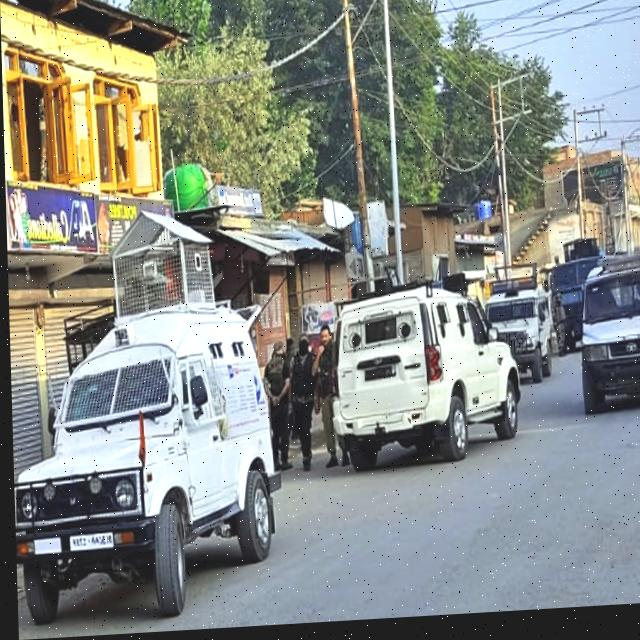plate: (62, 529, 115, 558), (359, 365, 398, 388)
